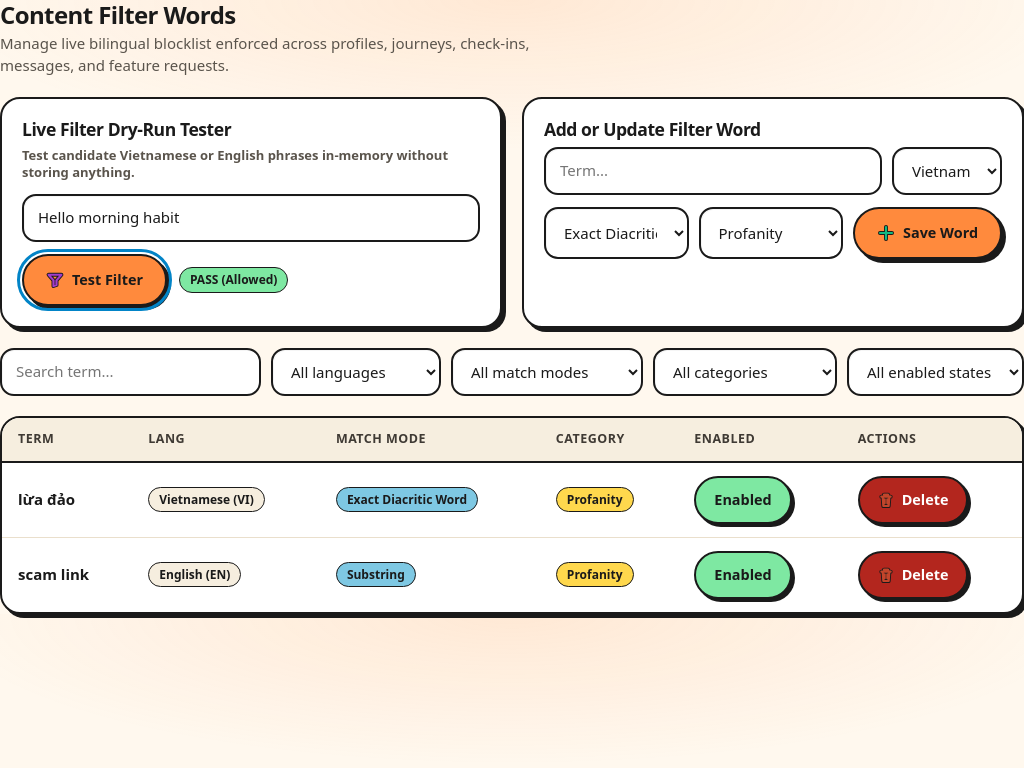
Test: WordsPage & Filter Word Deletion Confirmation (UX-28) › evaluates live dry-run tester using SQL { blocked, term } contract, supports add/toggle, and requires confirmation before deleting a word (UX-28)
Earlier steps of the test are not shown.
Later steps or results of the test are not shown.
Expected: the text "PASS (Allowed)" is shown, [179, 267, 288, 293]
Replace the text in the field named "Sample text for content filter dry-run" with "Click this scam link" at {"x": 251, "y": 218}, box [22, 194, 480, 242]
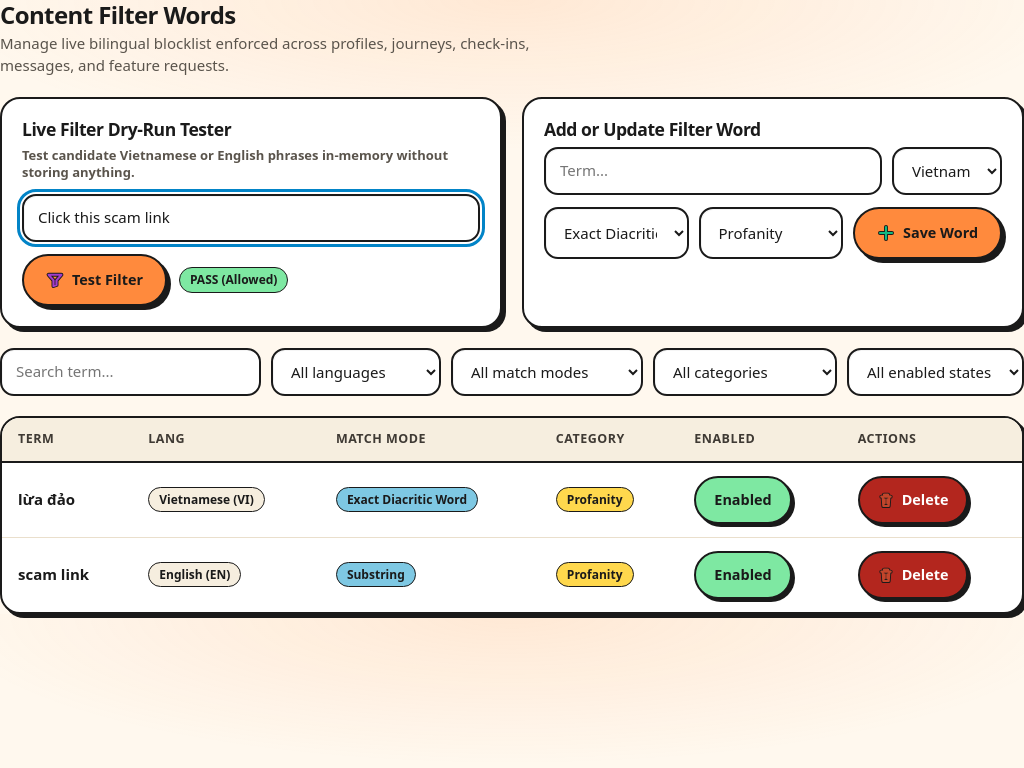
Click the button "Test Filter" at {"x": 94, "y": 280}, box [22, 254, 167, 306]
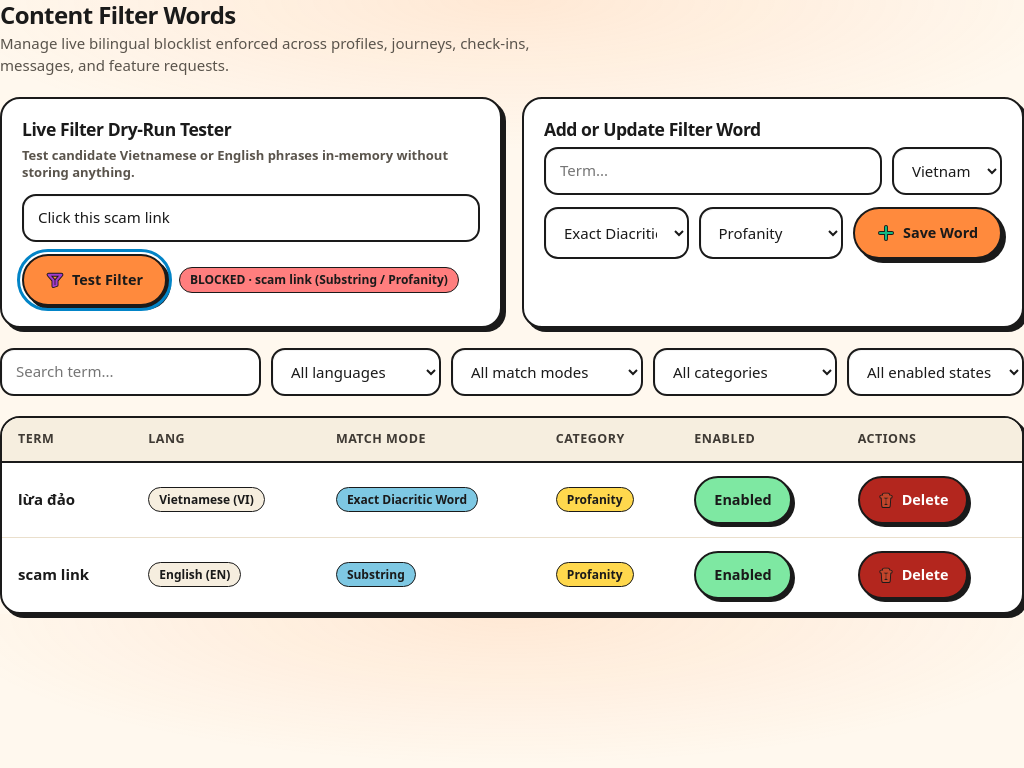
Now the text "BLOCKED · scam link (Substring / Profanity)" is shown, box [179, 267, 459, 293]
Type "badword" into the field with placeholder "Term..." at {"x": 713, "y": 171}, box [544, 147, 882, 195]
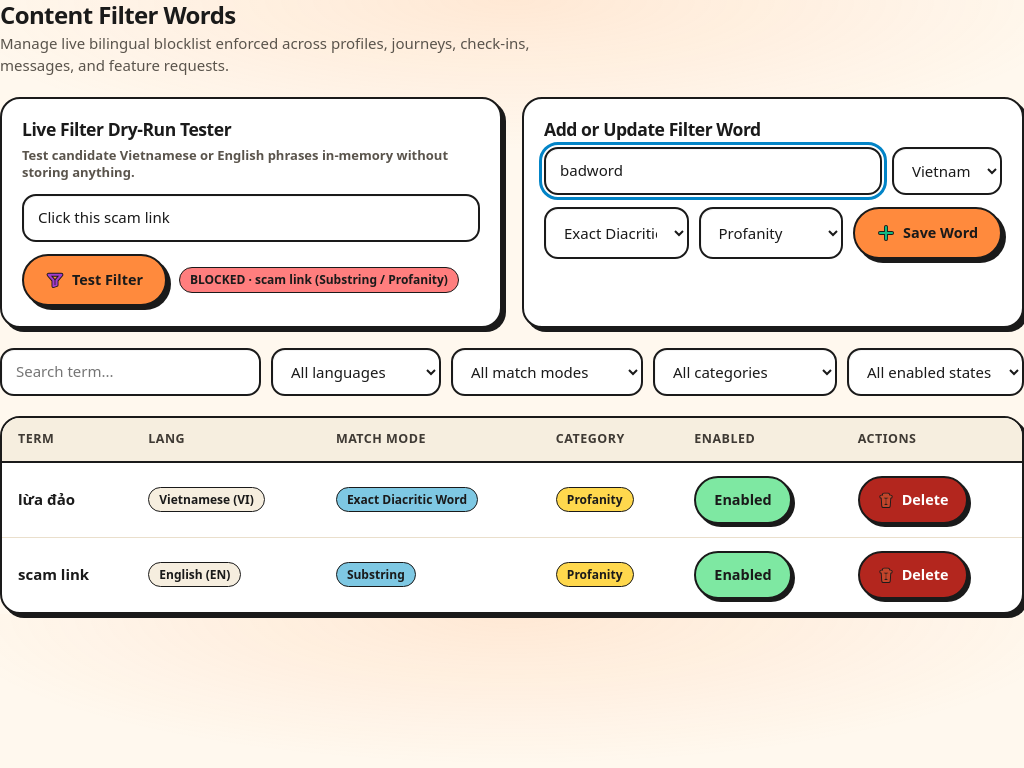
Click the button "Save Word" at {"x": 928, "y": 233}, box [853, 207, 1002, 259]
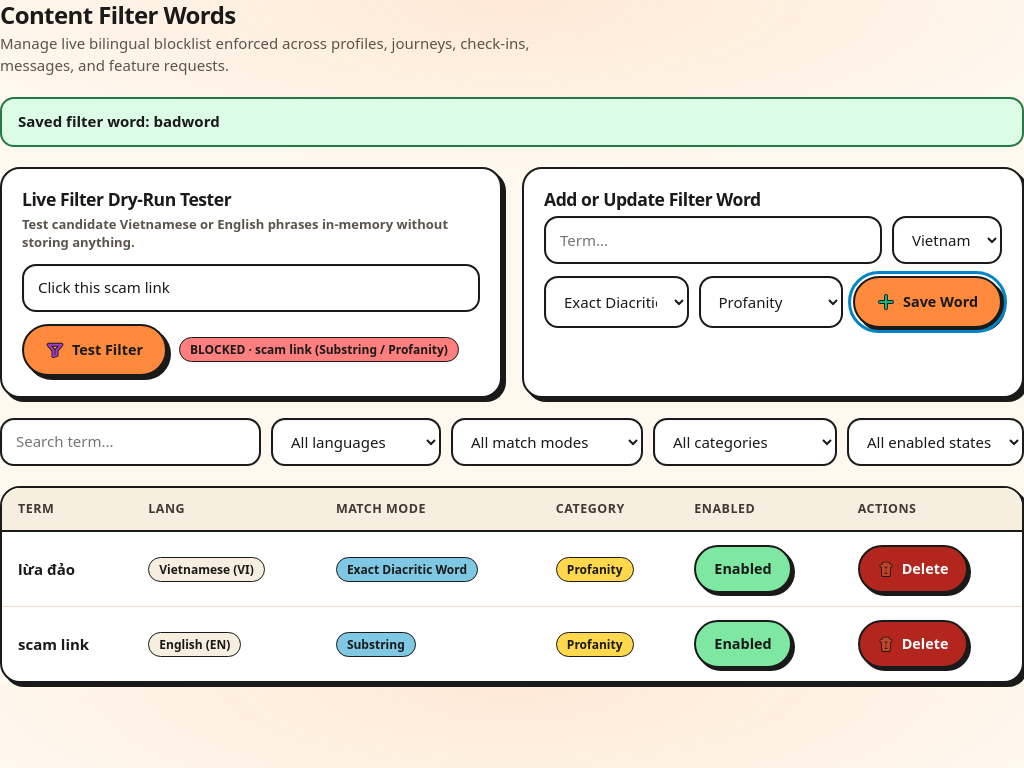
Click the button with aria-label "Enabled scam link" at {"x": 743, "y": 644}, box [694, 620, 792, 668]
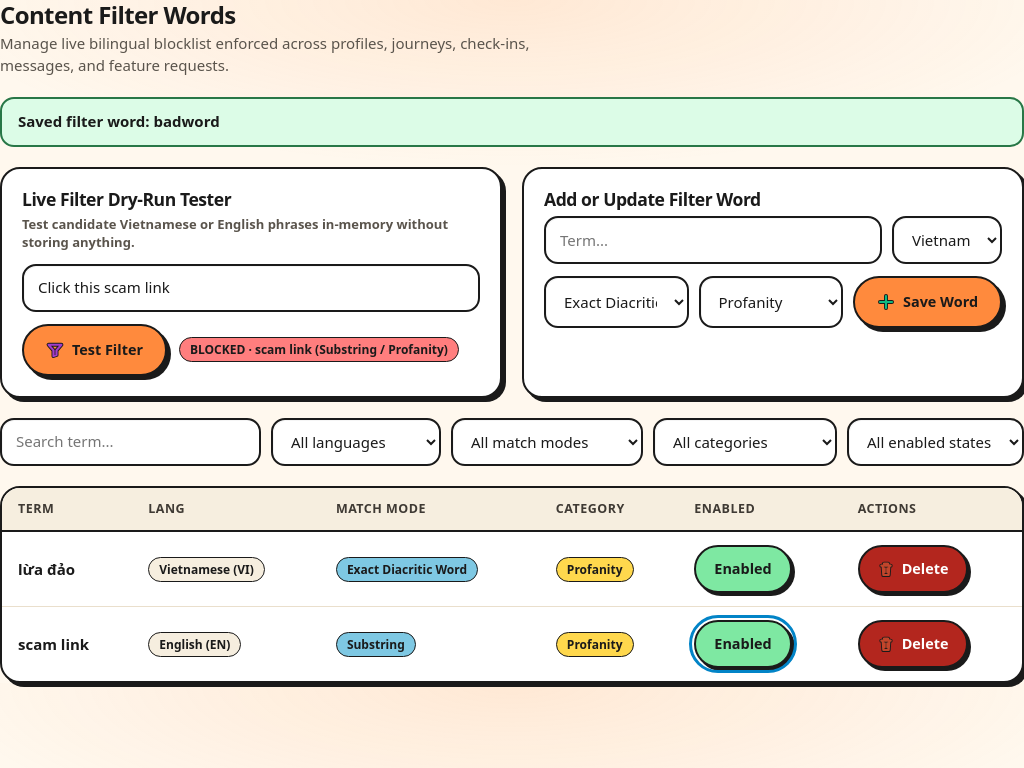
# UX-28: Clicking Delete opens confirmation modal first
Click the button with aria-label "Delete scam link" at {"x": 913, "y": 644}, box [858, 620, 968, 668]
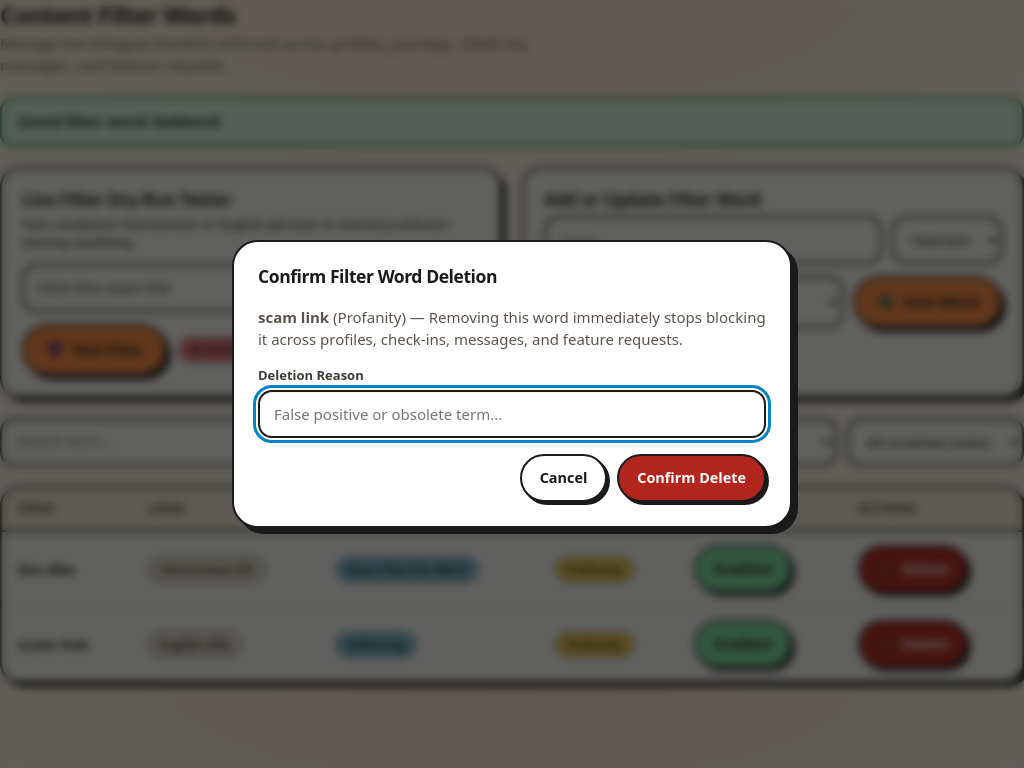
Now the dialog is shown
